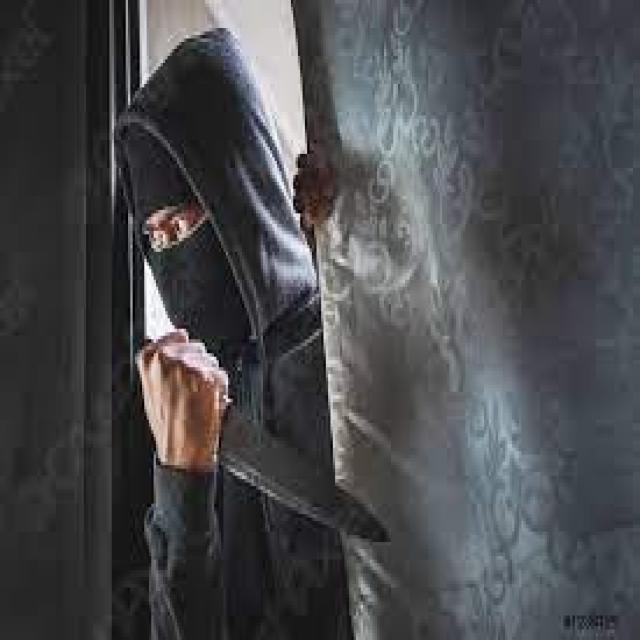faca: (132, 322, 396, 574)
